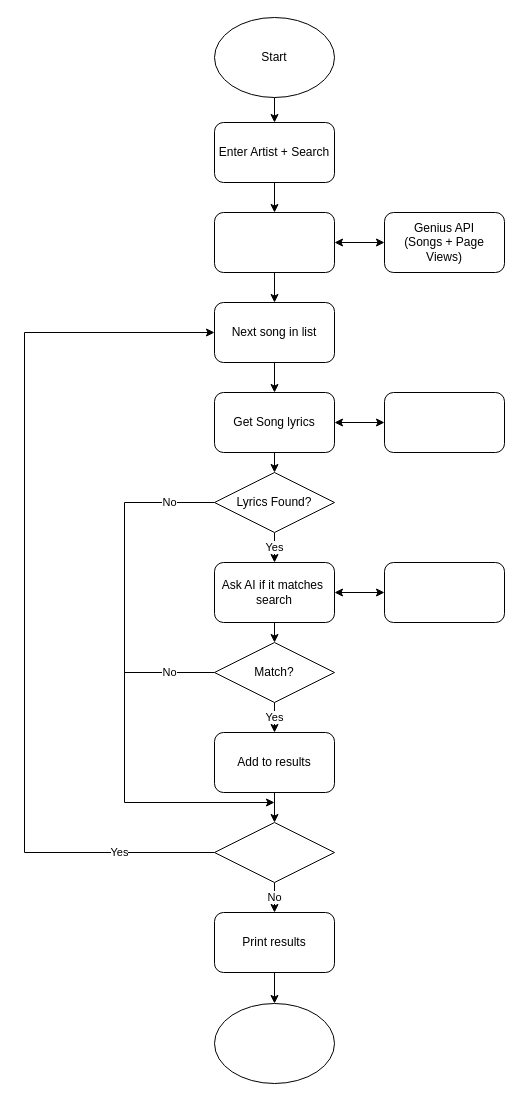
The diagram is 522 pixels wide and 1101 high, and some of its shapes have lost their labels. Here are the shapes that lost their labels. From the top down, the box of each, then its label:
(214, 212, 334, 272): Get artist's top songs
(384, 392, 504, 452): Genius Song Page (Lyrics in HTML)
(384, 562, 504, 622): AI API (Yes/No + Line)
(214, 822, 334, 882): More Songs?
(214, 1002, 334, 1084): End
